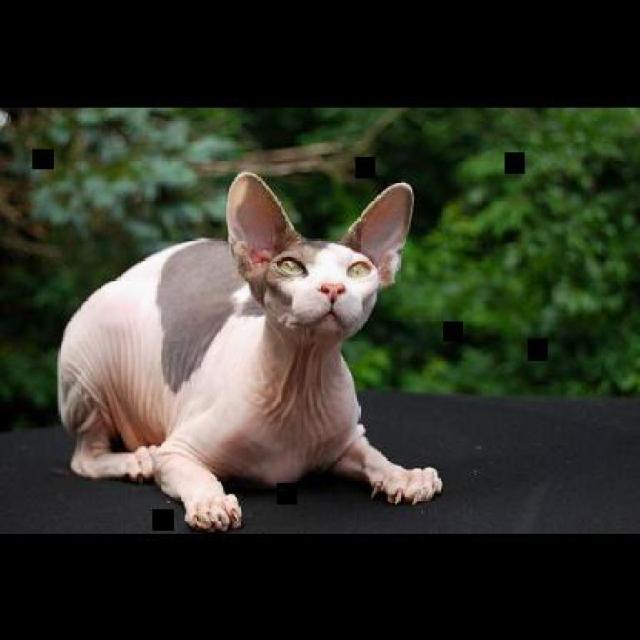unauthorized: (55, 170, 443, 532)
